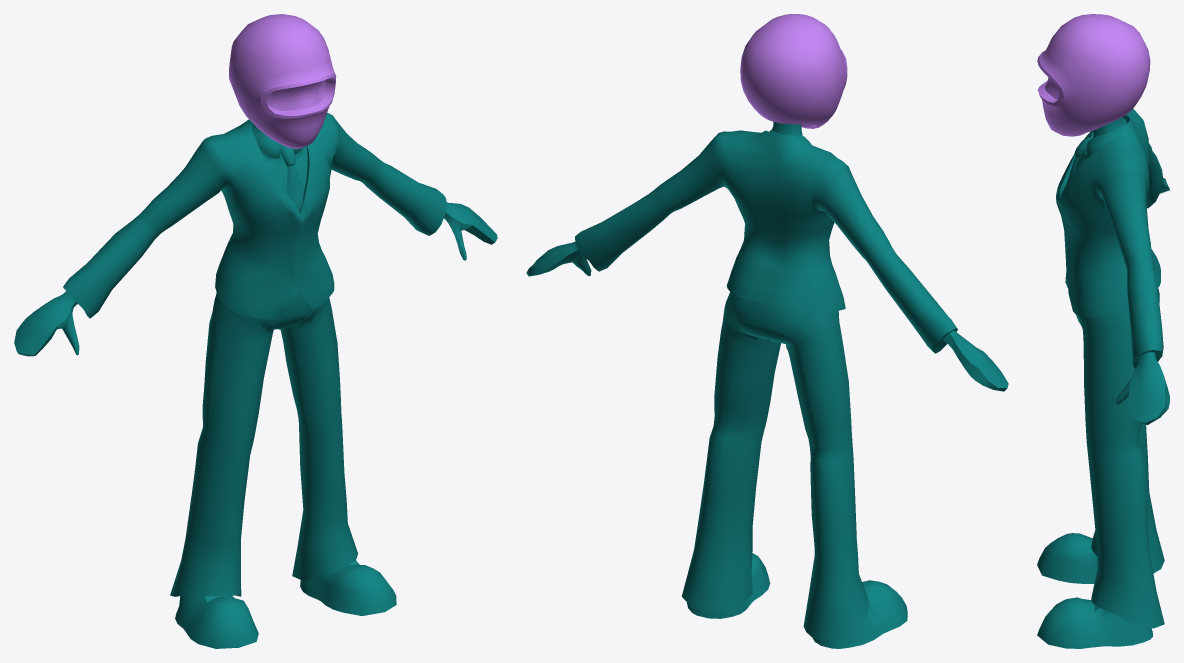
The model's file is Player_Character_Low.fbx.
3 views of the same model, side by side, from view 1: azimuth 30°, elevation 25°; view 2: azimuth 150°, elevation 25°; view 3: azimuth 270°, elevation 25° (orthographic).
Visible parts, largest first — view 1: PC_pants_low, PC_blazer_low, PC_helmet_low, PC_shoe_low, PC_body_low, PC_shirt_low, PC_tie_low; view 2: PC_pants_low, PC_blazer_low, PC_helmet_low, PC_shoe_low, PC_body_low; view 3: PC_pants_low, PC_blazer_low, PC_helmet_low, PC_shoe_low, PC_body_low, PC_shirt_low, PC_tie_low.
Boxes of the visible parts, x1,y1,x2,y2 form: PC_pants_low: (170,291,357,596); PC_blazer_low: (63,112,446,319); PC_helmet_low: (229,14,336,148); PC_shoe_low: (175,560,396,648); PC_body_low: (14,202,497,356); PC_shirt_low: (252,124,307,193); PC_tie_low: (280,145,303,211); PC_pants_low: (682,292,869,640); PC_blazer_low: (575,130,957,353); PC_helmet_low: (740,14,847,128); PC_shoe_low: (687,553,907,648); PC_body_low: (526,121,1008,391); PC_pants_low: (1076,288,1164,628); PC_blazer_low: (1056,108,1163,368); PC_helmet_low: (1037,14,1150,136); PC_shoe_low: (1037,533,1152,648); PC_body_low: (1093,117,1169,425); PC_shirt_low: (1076,118,1127,168); PC_tie_low: (1066,137,1091,184).
Size of the model in its own units: 149 by 177 by 36.26.
